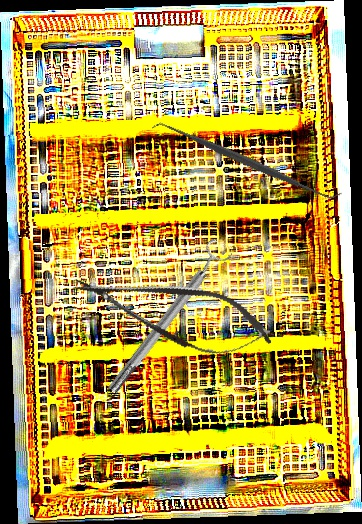Fixation Ring: (99, 237, 235, 399)
Micro Scissor: (65, 253, 280, 372)
Spatula Surgical: (151, 110, 343, 212)
